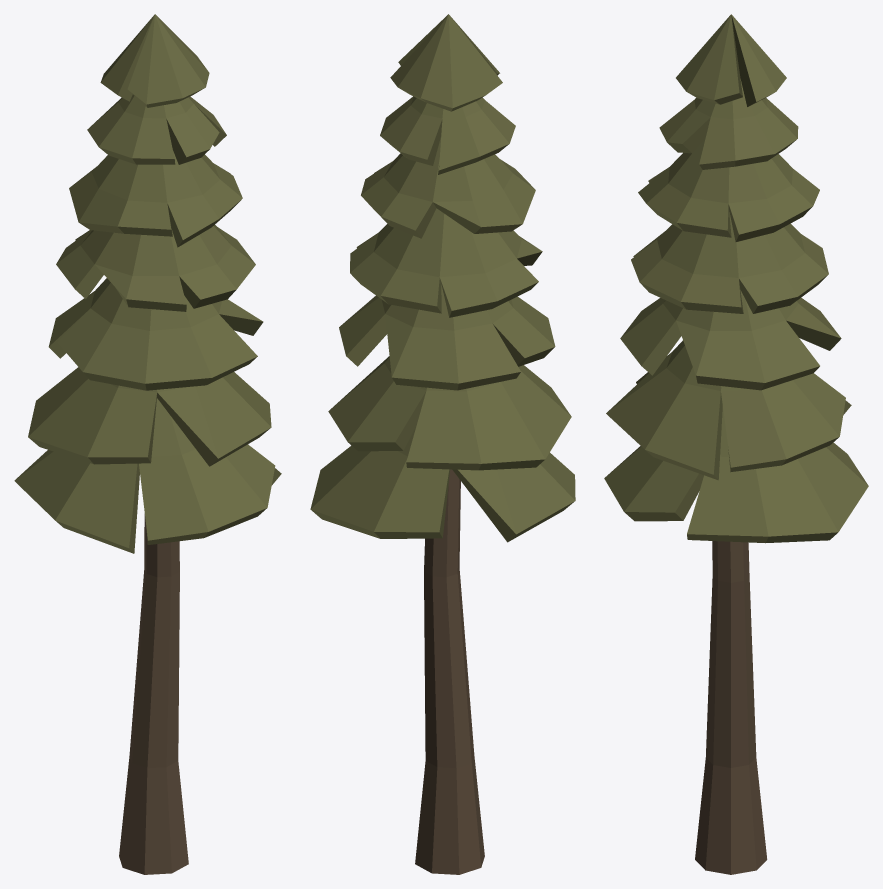
The model's file is SM_Envr_Nature_Tree_Pine_Large_04.fbx.
The picture shows the model from 3 angles, left to right: view 1: azimuth 30°, elevation 25°; view 2: azimuth 150°, elevation 25°; view 3: azimuth 270°, elevation 25°; orthographic projection.
Visible parts, largest first — view 1: SM_Envr_Nature_Tree_Pine_Large_04; view 2: SM_Envr_Nature_Tree_Pine_Large_04; view 3: SM_Envr_Nature_Tree_Pine_Large_04.
Part boxes in pixels (left/top/right/bottom): SM_Envr_Nature_Tree_Pine_Large_04: left=14, top=14, right=281, bottom=874; SM_Envr_Nature_Tree_Pine_Large_04: left=310, top=14, right=575, bottom=874; SM_Envr_Nature_Tree_Pine_Large_04: left=604, top=14, right=868, bottom=874.
Bounding box in the file's own units: 380 × 1377 × 391.
